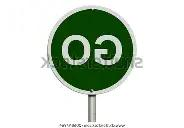Go: (48, 6, 136, 93)
